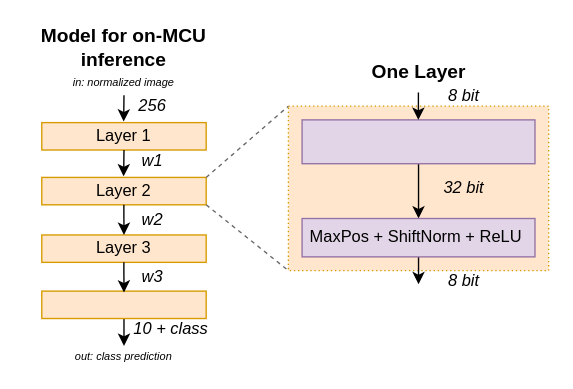
The diagram is 573 pixels wide and 389 high, and some of its shapes have lost their labels. The shapes that lost their labels are listed below. From the top down, each one's centre as x and y in pixels, then its label:
At (418,141): "fc".
At (123,304): "Last layer".
